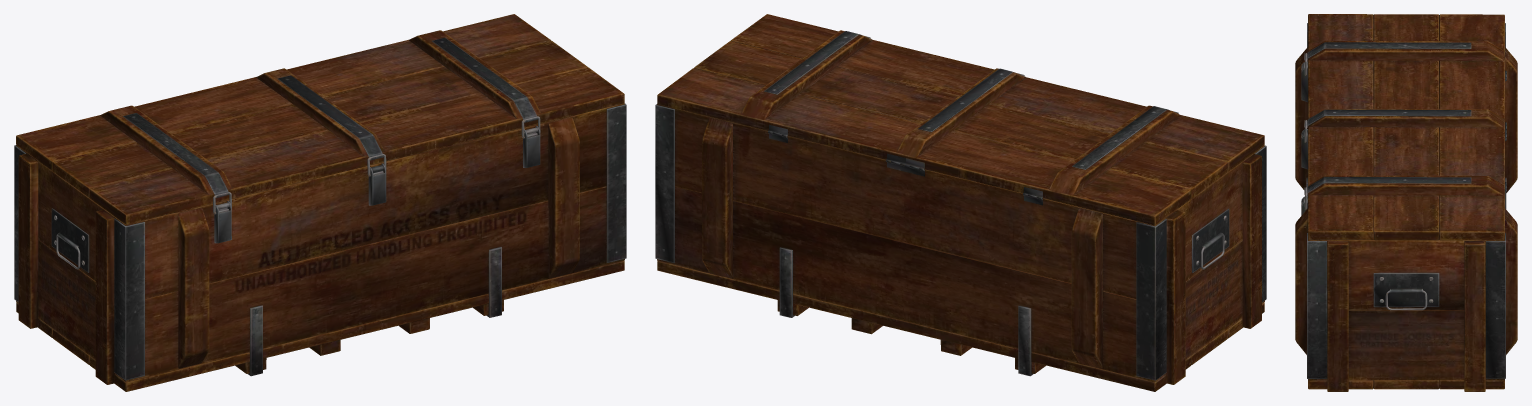
Rendered from crate_mil.glb.
3 views of the same model, side by side, from view 1: azimuth 30°, elevation 25°; view 2: azimuth 150°, elevation 25°; view 3: azimuth 270°, elevation 25° (orthographic). The views are drawn at different scales.
Visible parts, largest first — view 1: wooden_military_crate; view 2: wooden_military_crate; view 3: wooden_military_crate.
Part boxes in pixels (x1,y1,x2,y2): wooden_military_crate: (14, 14, 626, 391); wooden_military_crate: (655, 14, 1266, 391); wooden_military_crate: (1295, 14, 1517, 391).
Size of the model in its own units: 1.24 by 0.4647 by 0.5198.
Materials: 1 (1 with a texture image).
